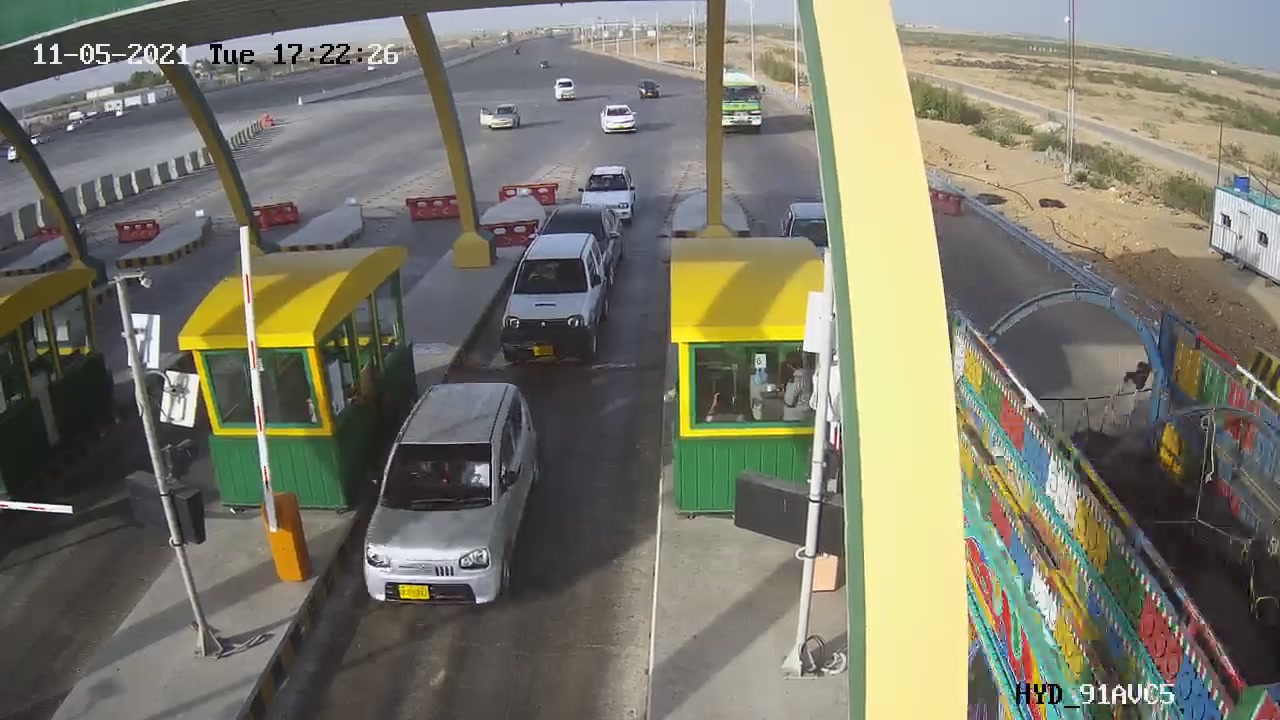F1: (343, 368, 563, 627), (492, 222, 629, 377)
